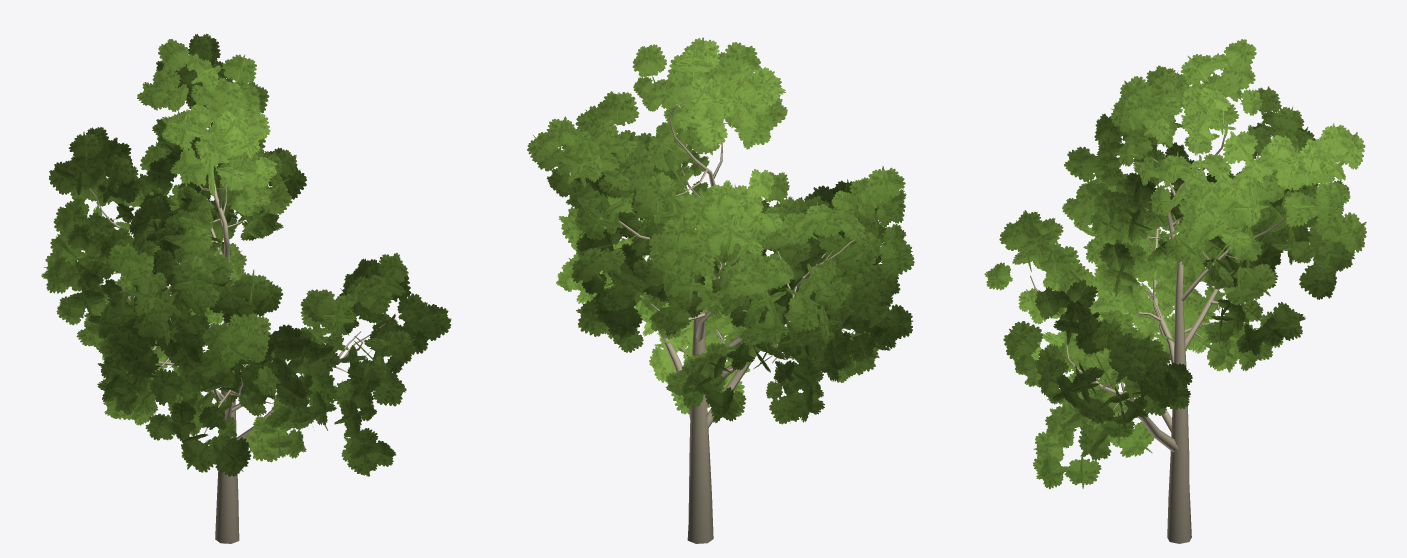
Rendered from platano.glb.
The picture shows the model from 3 angles, left to right: view 1: azimuth 30°, elevation 25°; view 2: azimuth 150°, elevation 25°; view 3: azimuth 270°, elevation 25°; orthographic projection. The views are drawn at different scales.
Parts seen in each view (by area): view 1: platano; view 2: platano; view 3: platano.
Part boxes in pixels (box(x1,y1,x2,y2)): platano: box(41, 33, 451, 543); platano: box(527, 37, 914, 543); platano: box(984, 39, 1366, 543).
Bounding box in the file's own units: 10.59 × 13.51 × 10.2.
2 materials, 1 textured.
